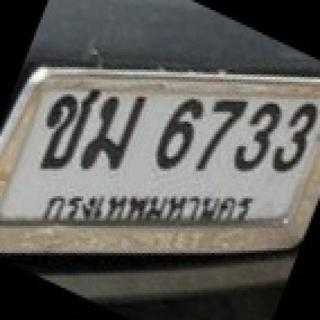A10: (31, 82, 104, 171)
A33: (78, 92, 154, 173)
N03: (271, 100, 320, 174), (237, 98, 281, 168)
N06: (154, 92, 202, 173)
N07: (200, 93, 244, 172)
P04: (41, 188, 255, 228)
